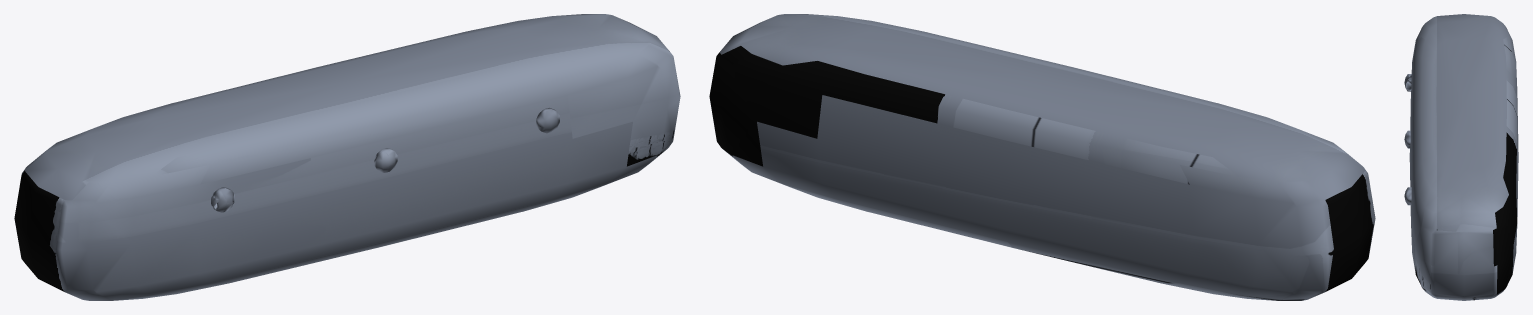
File: Remache_BotaDer_Acero.fbx
3 renders of one model, left to right at view 1: azimuth 30°, elevation 25°; view 2: azimuth 150°, elevation 25°; view 3: azimuth 270°, elevation 25°, orthographic. The views are drawn at different scales.
Visible parts, largest first — view 1: Remache_BotaDer_Acero; view 2: Remache_BotaDer_Acero; view 3: Remache_BotaDer_Acero.
Boxes of the visible parts, x1,y1,x2,y2 form: Remache_BotaDer_Acero: (14, 14, 680, 300); Remache_BotaDer_Acero: (709, 14, 1375, 300); Remache_BotaDer_Acero: (1404, 14, 1518, 300).
Bounding box in the file's own units: 1.9 × 0.4286 × 0.4121.
